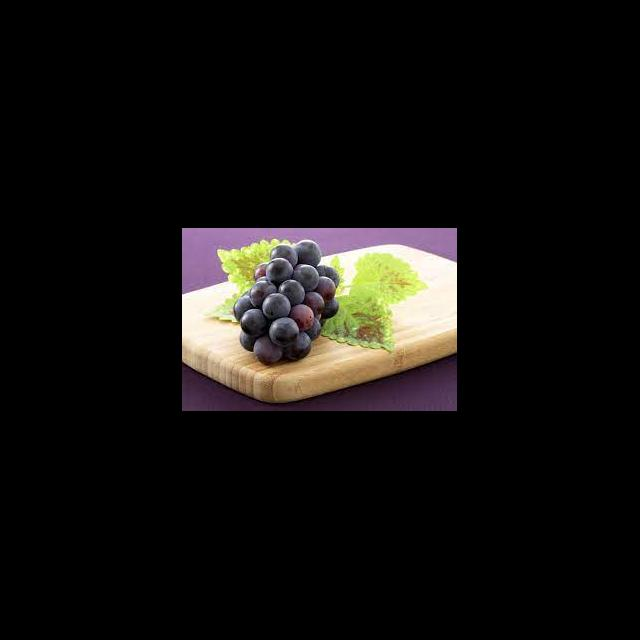grape: (232, 240, 340, 364)
